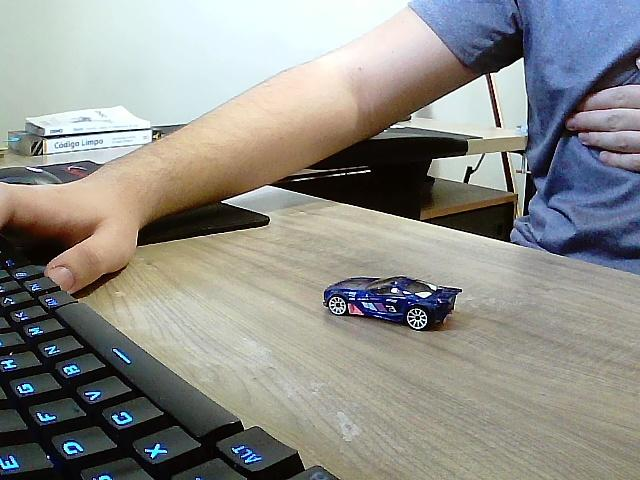Carro: (324, 277, 461, 331)
